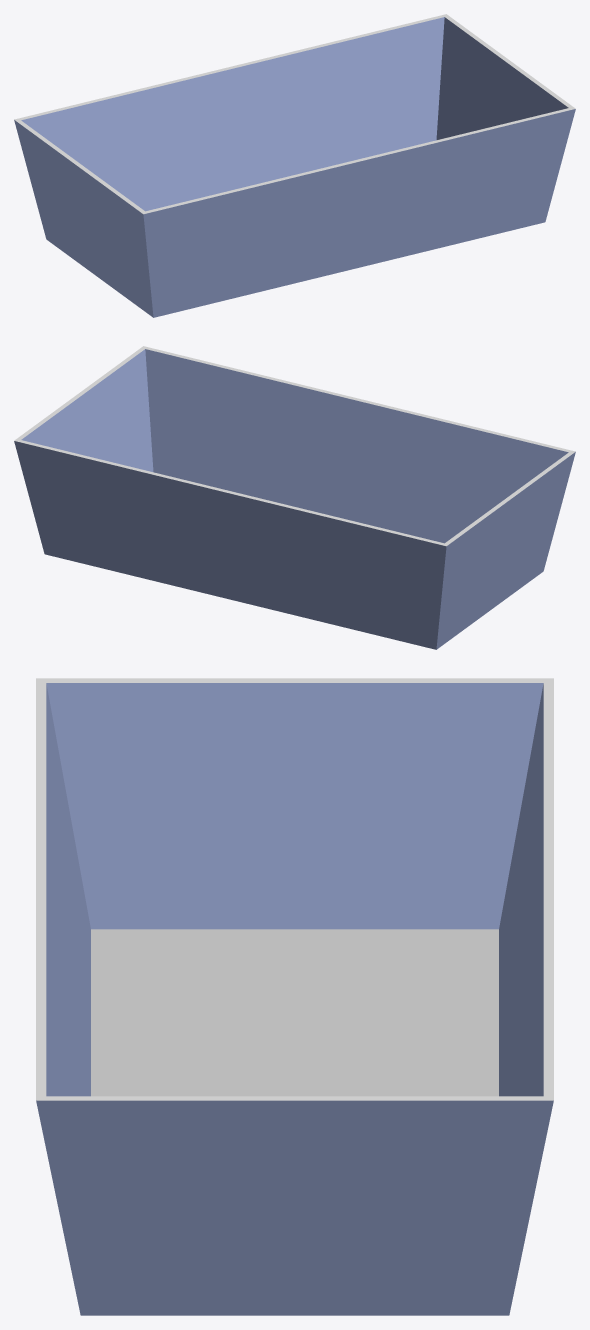
Rendered from Room2.fbx.
3 renders of one model, top to bottom at view 1: azimuth 30°, elevation 25°; view 2: azimuth 150°, elevation 25°; view 3: azimuth 270°, elevation 25°, orthographic. The views are drawn at different scales.
Visible parts, largest first — view 1: Room2; view 2: Room2; view 3: Room2.
Part boxes in pixels (<box>): Room2: <box>14,14,575,317</box>; Room2: <box>14,346,575,649</box>; Room2: <box>36,678,553,1315</box>.
Size of the model in its own units: 1929 by 498 by 1000.
